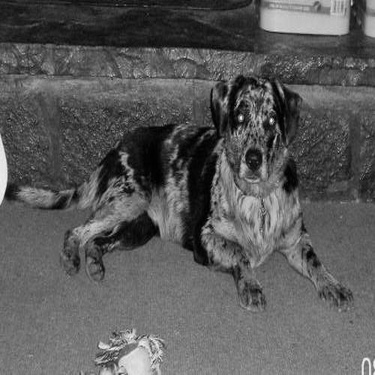dog: (2, 62, 361, 320)
